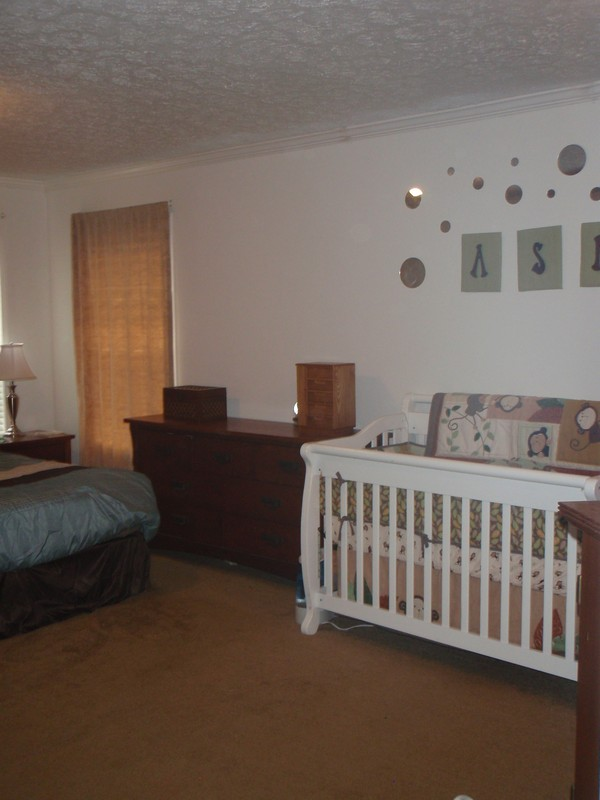lamp: (5, 338, 38, 448)
table: (122, 405, 355, 587)
